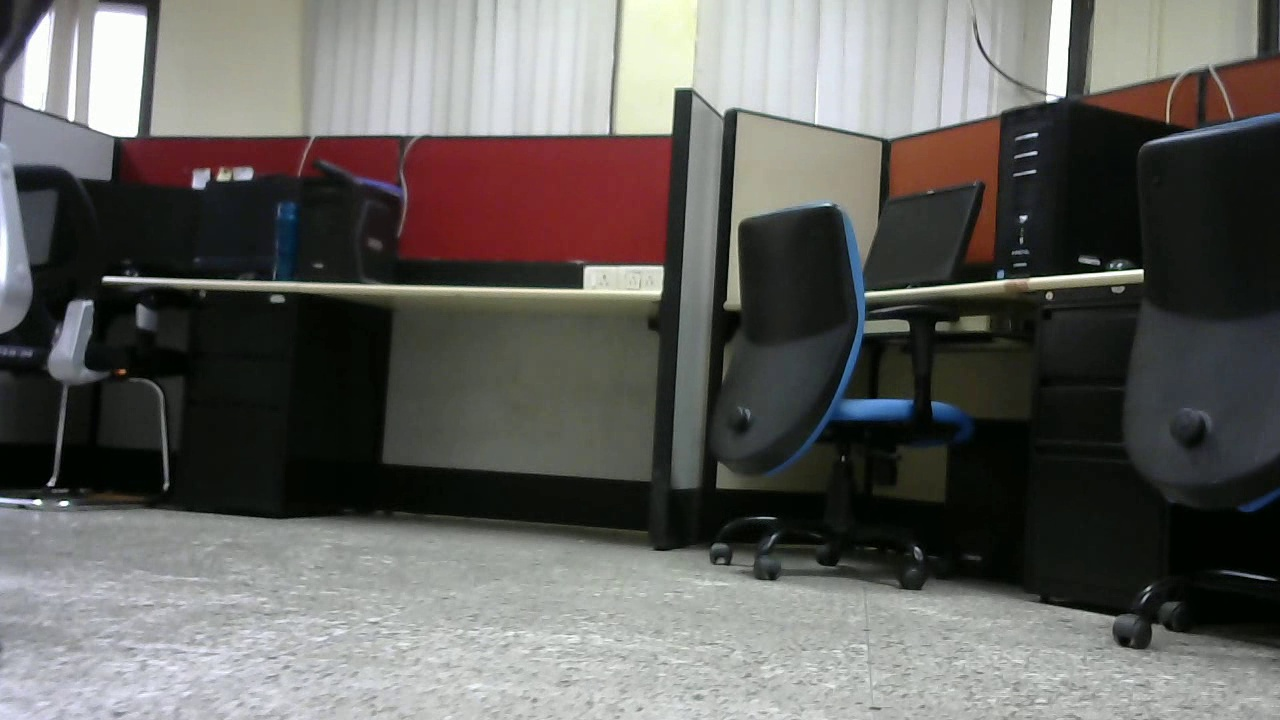chair: (698, 202, 978, 589)
